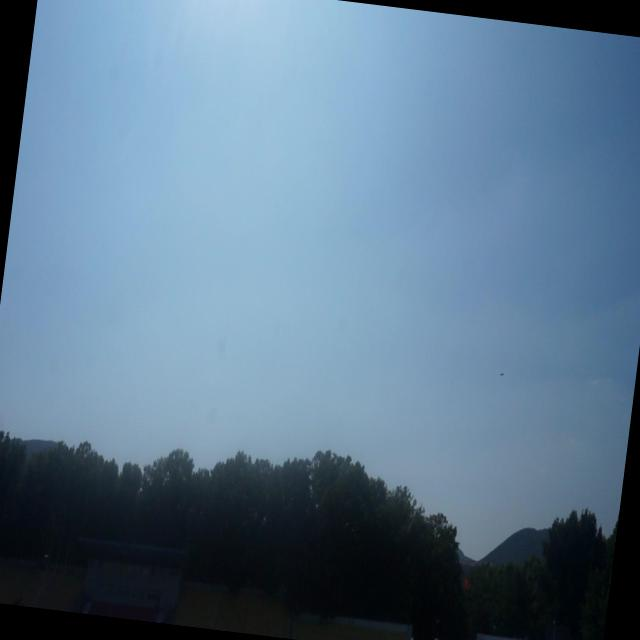drone: (496, 366, 508, 381)
